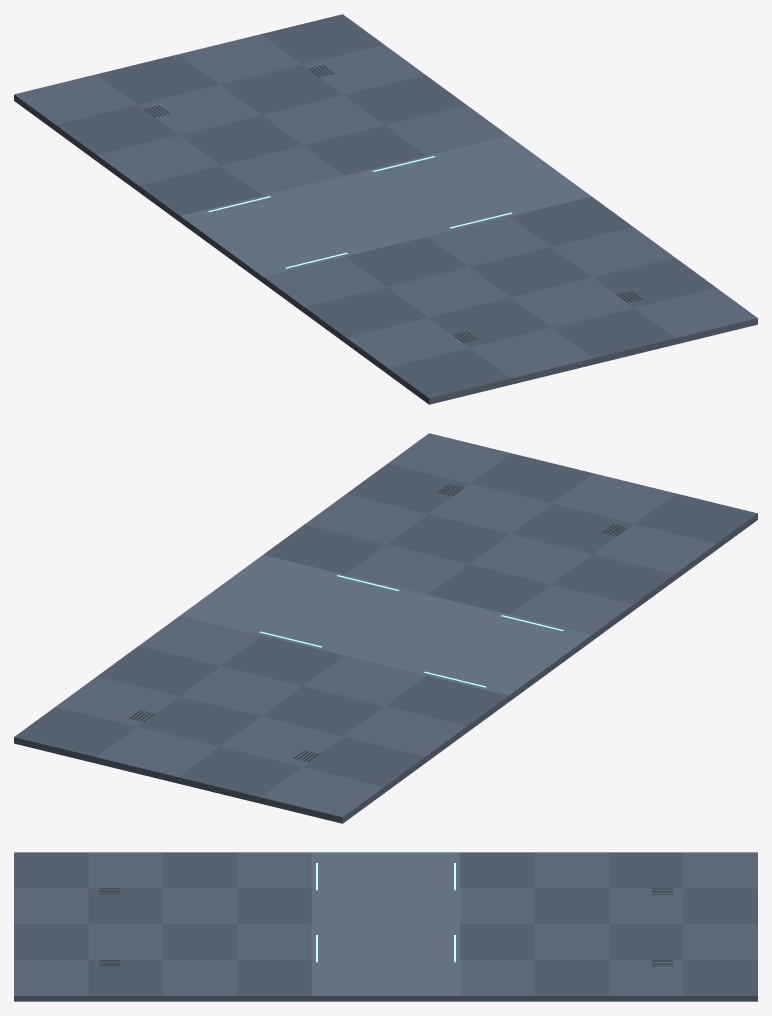
File: DS_Floor64.glb
The picture shows the model from 3 angles, top to bottom: view 1: azimuth 30°, elevation 25°; view 2: azimuth 150°, elevation 25°; view 3: azimuth 270°, elevation 25°; orthographic projection. The views are drawn at different scales.
Visible parts, largest first — view 1: DS_Floor64; view 2: DS_Floor64; view 3: DS_Floor64.
Boxes of the visible parts, x1,y1,x2,y2 form: DS_Floor64: (14,14,757,404); DS_Floor64: (14,433,757,823); DS_Floor64: (14,852,757,1001).
Bounding box in the file's own units: 64 × 1.27 × 140.
Materials: 2 (2 with a texture image).
